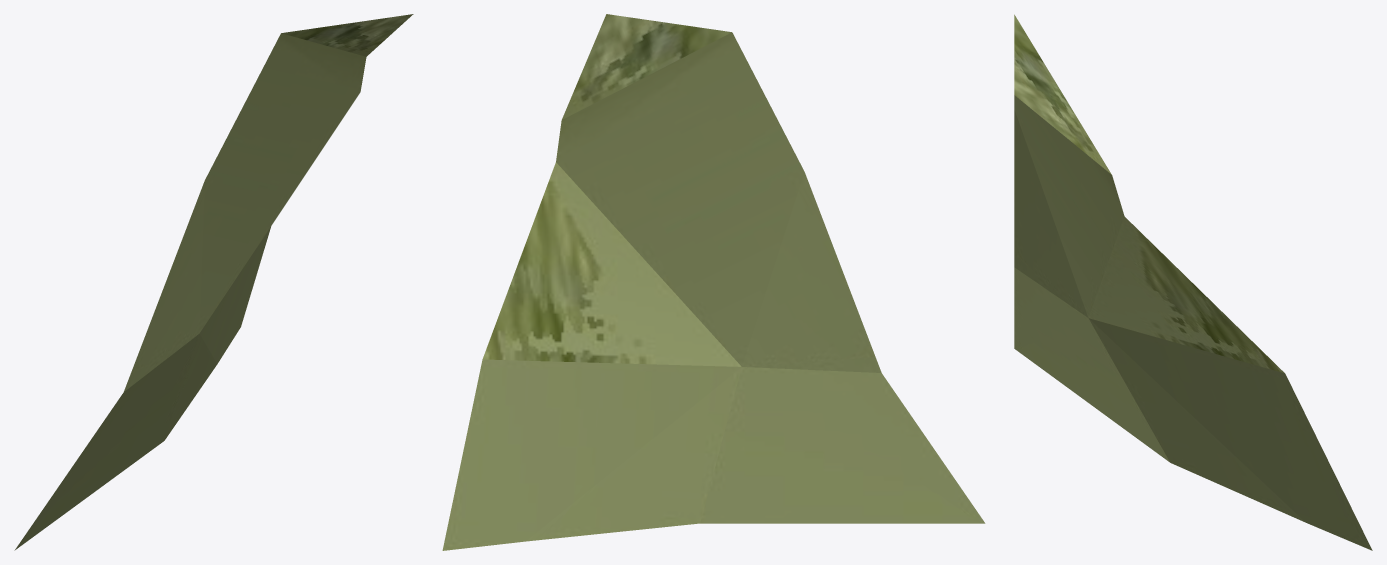
3 renders of one model, left to right at view 1: azimuth 30°, elevation 25°; view 2: azimuth 150°, elevation 25°; view 3: azimuth 270°, elevation 25°, orthographic. The views are drawn at different scales.
Size of the model in its own units: 2.04 by 2.21 by 1.53.
1 material, 1 textured.
